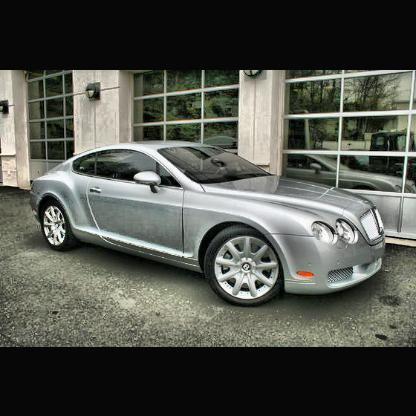Bentley Continental GT Coupe 2007: (27, 140, 387, 307)
